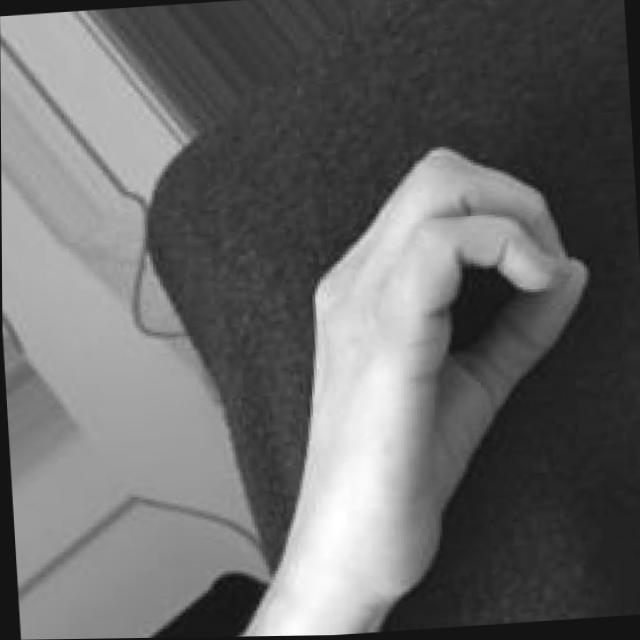O: (271, 131, 611, 636)
